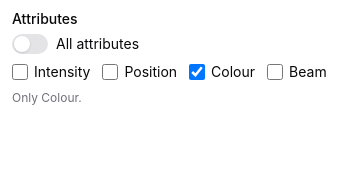
Test case: the All attributes switch › switched on again drops the ticks
The image size is (343, 172).
Click the switch named "All attributes" at (30, 44), box [12,34,48,54]
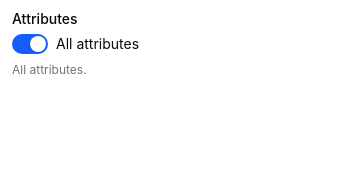
Check: no checkboxes are shown
